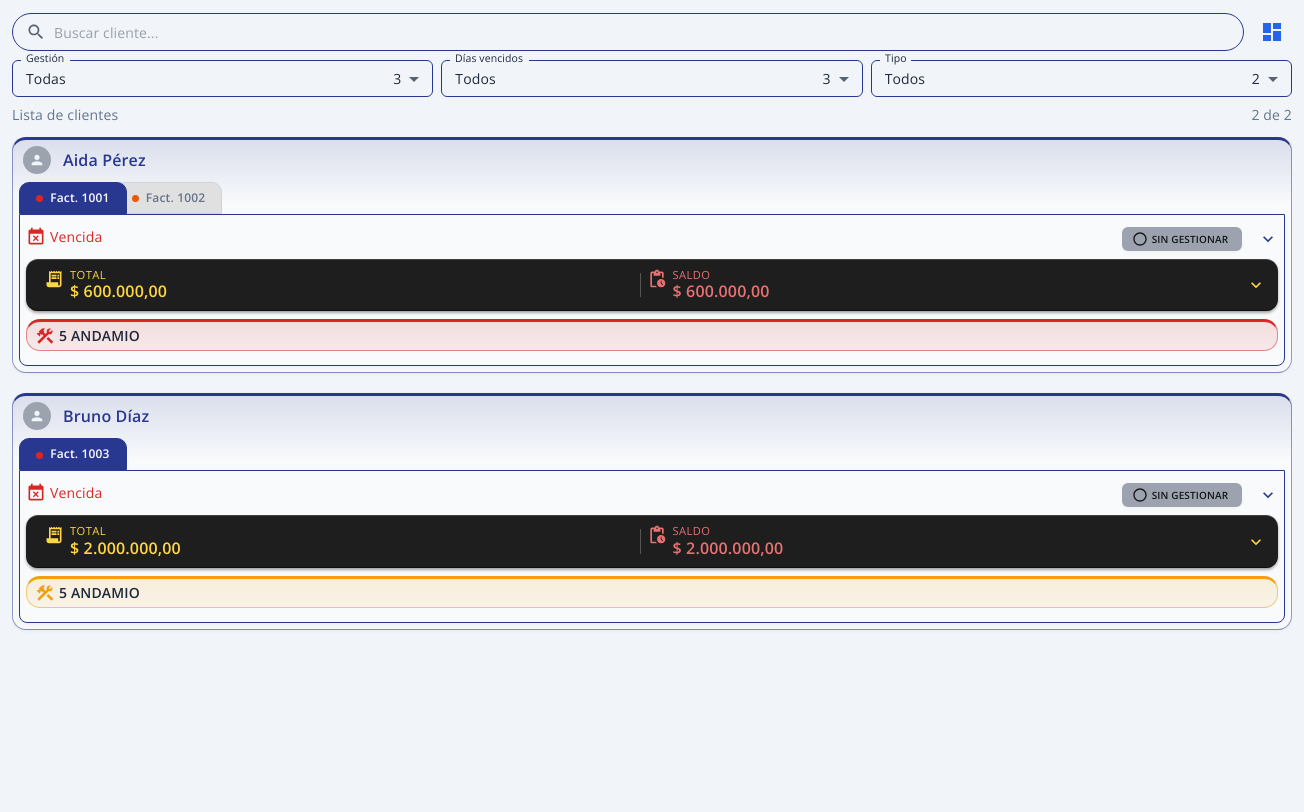
SeguimientoClientes — los filtros › «Cobro» deja solo la factura de cobro de Aida
Expected: the text "2 de 2" is shown, top-left (1251, 105), bottom-right (1292, 125)
Click the dropdown named "Gestión" at (46, 78), box top-left (26, 68), bottom-right (401, 88)
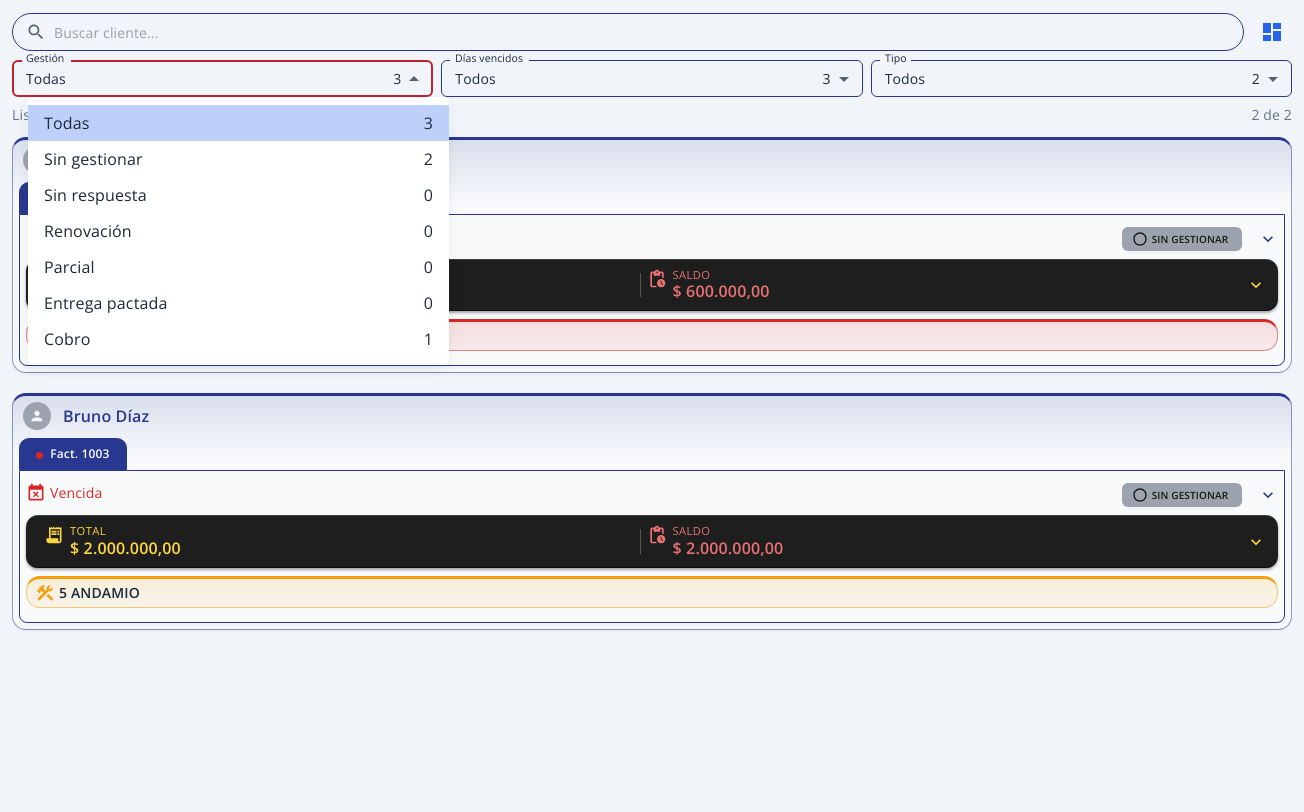
Click the text "Cobro" at (67, 339), box top-left (44, 327), bottom-right (90, 351)
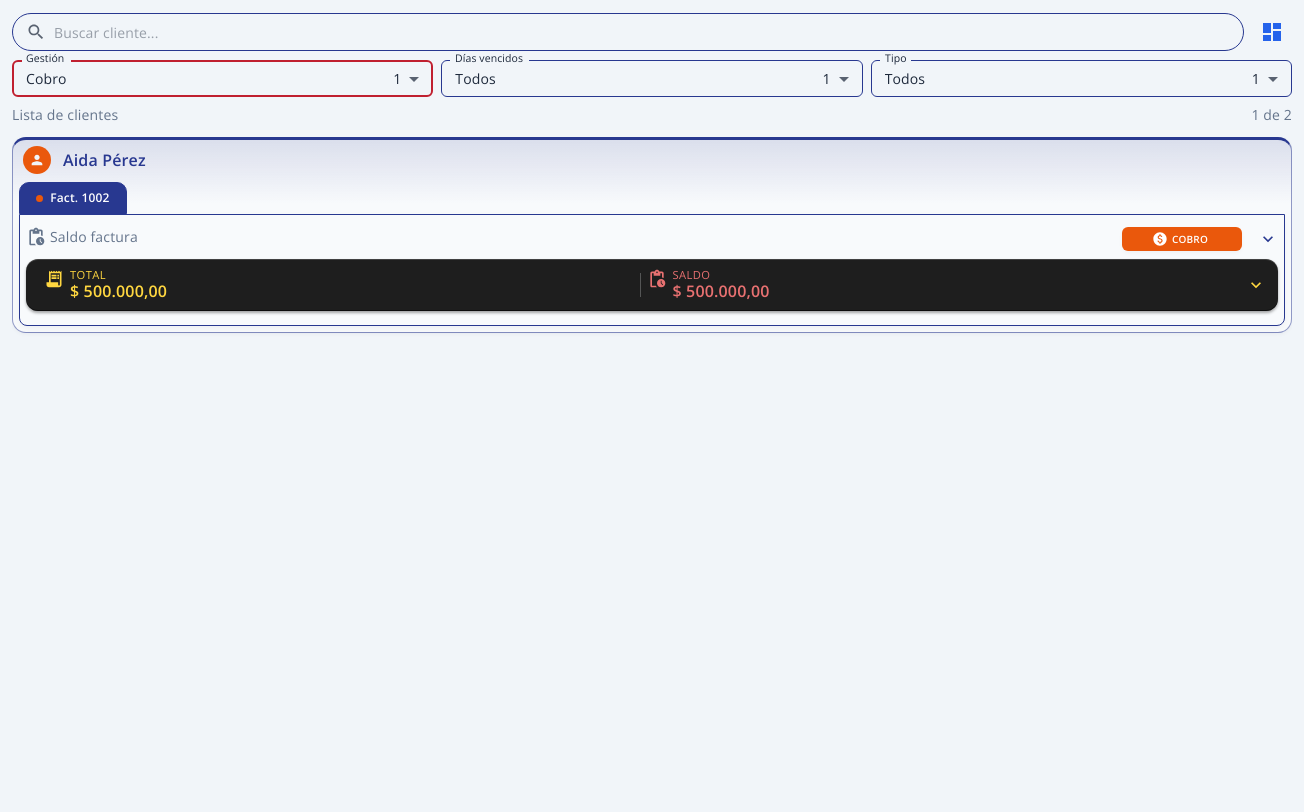
Expected: the text "Aida Pérez" is shown, top-left (63, 150), bottom-right (146, 170)
Expected: the text "1 de 2" is shown, top-left (1251, 105), bottom-right (1292, 125)
Expected: the button "1001" is gone
